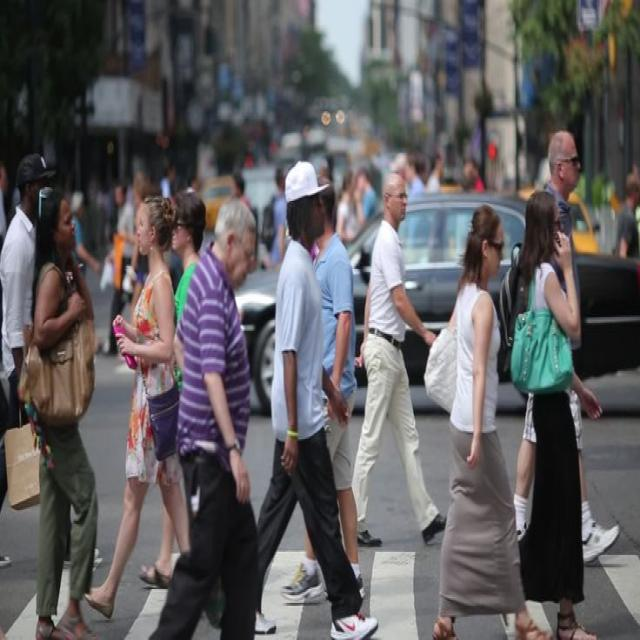person: (253, 158, 376, 640), (431, 202, 554, 638), (79, 200, 192, 640), (512, 130, 619, 564), (352, 167, 446, 544), (33, 190, 99, 640)
